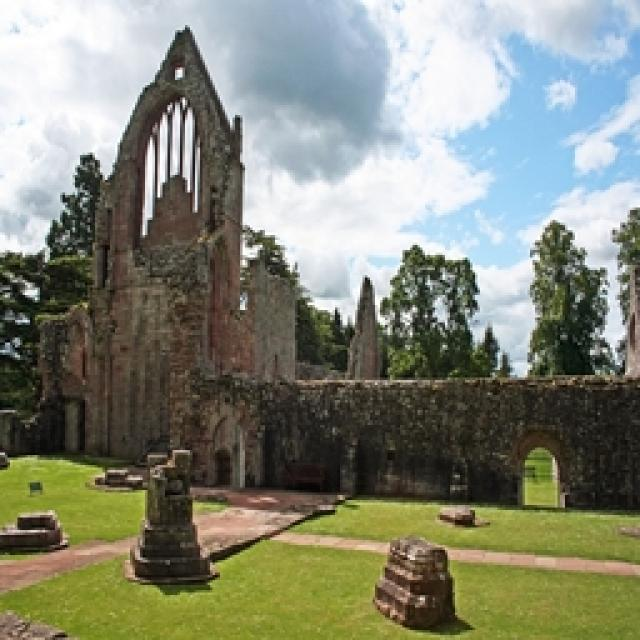Abbey: (73, 23, 344, 474)
